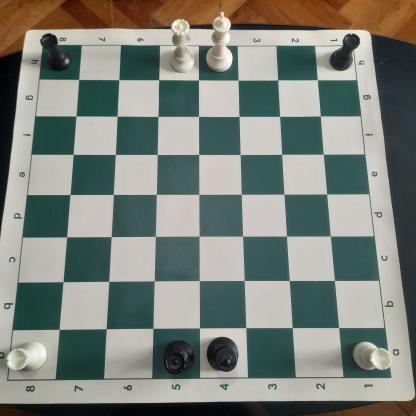black-king: (205, 334, 242, 376)
black-queen: (159, 337, 196, 377)
black-rook: (326, 30, 364, 72), (37, 31, 74, 74)
white-king: (204, 9, 235, 74)
white-queen: (165, 14, 198, 76)
white-rook: (349, 338, 393, 377), (6, 336, 49, 375)
